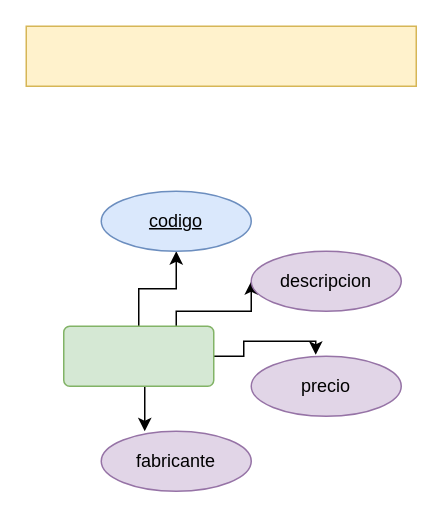
Image size: 443x518. Some labels were removed from this diagram. The shapes that lost their labels are listed below. From the top down, each one's centre as x and y in pixels, then its label:
(x=220, y=55): DB tienda_informatica
(x=138, y=355): producto
